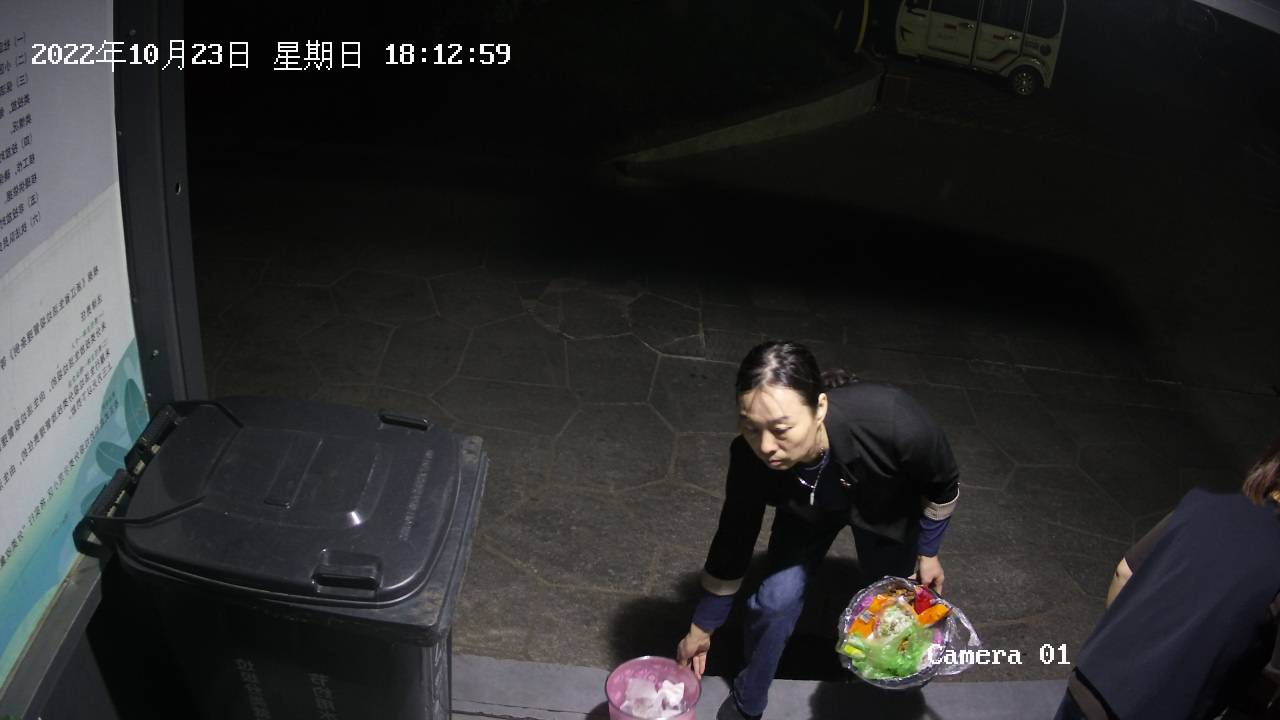person: (674, 340, 980, 717)
youtong: (835, 575, 963, 691), (603, 652, 702, 720)
